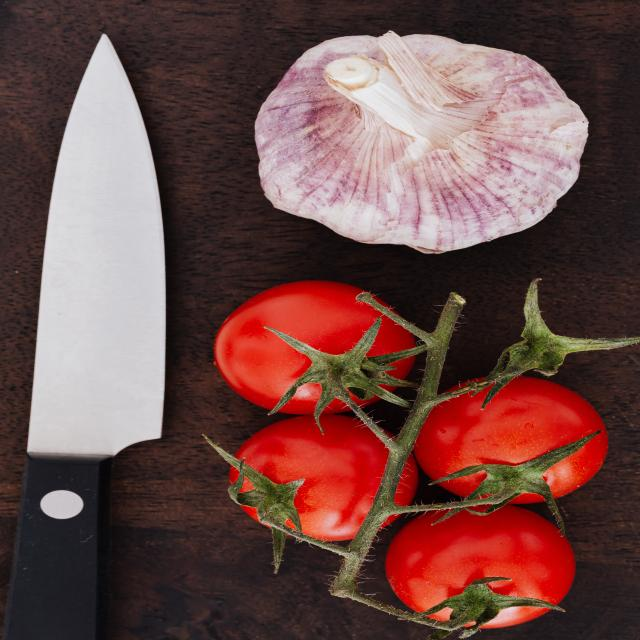Tomato: (360, 491, 595, 629), (213, 272, 416, 418), (208, 422, 410, 535), (439, 384, 611, 511)
